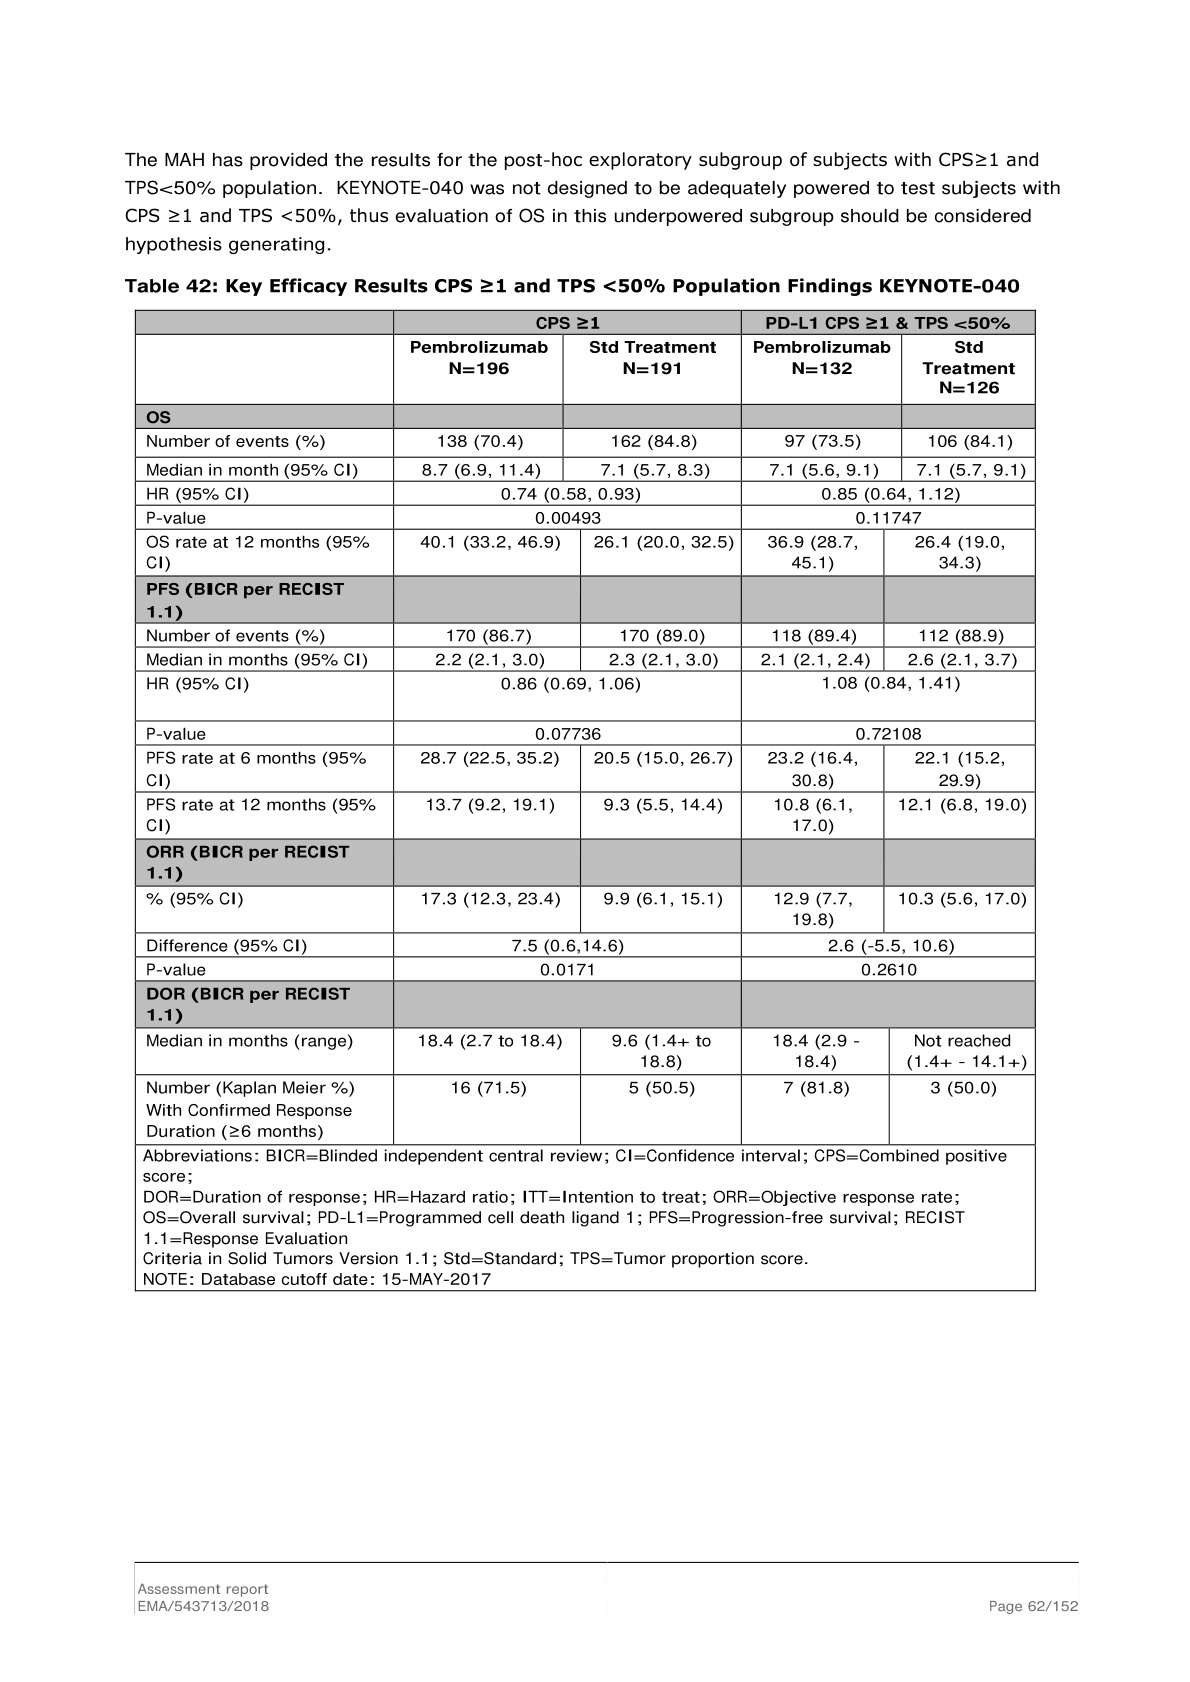merged_cells: (134, 309, 1037, 1292)
